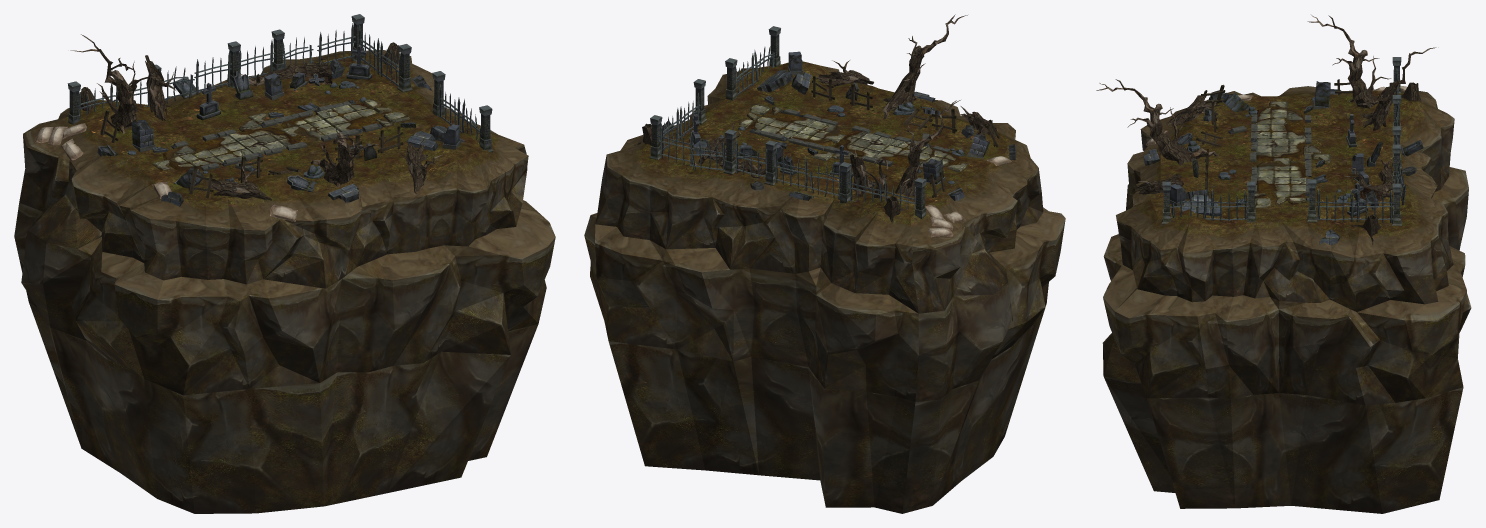
The model's file is cell2LR.fbx.
3 views of the same model, side by side, from view 1: azimuth 30°, elevation 25°; view 2: azimuth 150°, elevation 25°; view 3: azimuth 270°, elevation 25° (orthographic). The views are drawn at different scales.
Visible parts, largest first — view 1: cell2LR; view 2: cell2LR; view 3: cell2LR.
Boxes of the visible parts, bbox=[...] form: cell2LR: bbox=[14, 14, 555, 513]; cell2LR: bbox=[584, 14, 1065, 513]; cell2LR: bbox=[1096, 15, 1471, 513].
Bounding box in the file's own units: 26.13 × 24.06 × 22.3.
